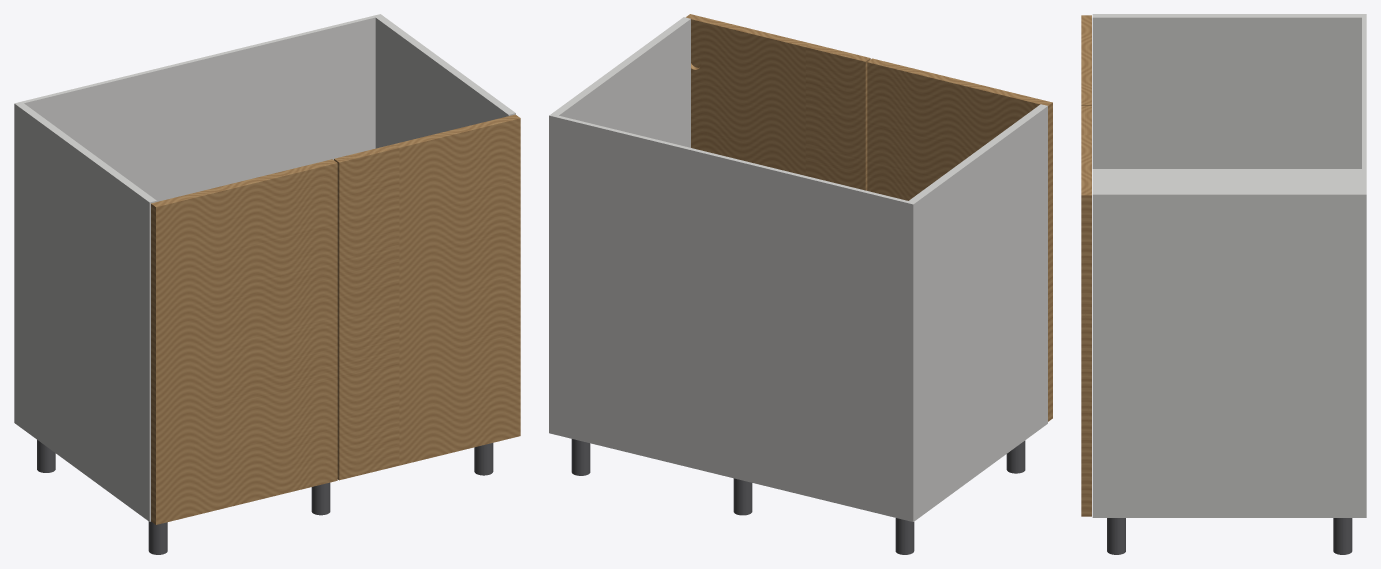
File: w900_none_pair_closed.glb
3 views of the same model, side by side, from view 1: azimuth 30°, elevation 25°; view 2: azimuth 150°, elevation 25°; view 3: azimuth 270°, elevation 25° (orthographic).
Visible parts, largest first — view 1: oak, white, leg; view 2: white, oak, leg; view 3: white, oak, leg.
Part boxes in pixels (box(x1,y1,x2,y2)): oak: box(151, 114, 520, 524); white: box(14, 14, 515, 521); leg: box(37, 440, 493, 554); white: box(549, 17, 1047, 521); oak: box(686, 14, 1052, 421); leg: box(571, 439, 1025, 554); white: box(1092, 14, 1366, 517); oak: box(1081, 15, 1091, 516); leg: box(1107, 518, 1352, 554).
Bounding box in the file's own units: 0.9 × 0.85 × 0.6.
Materials: 3 (1 with a texture image).
